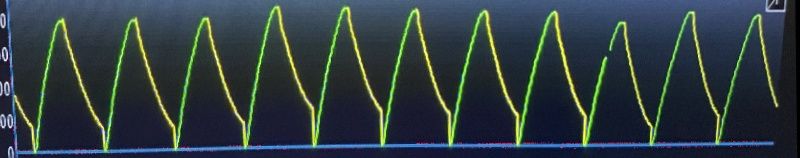leakage: (31, 0, 726, 151)
